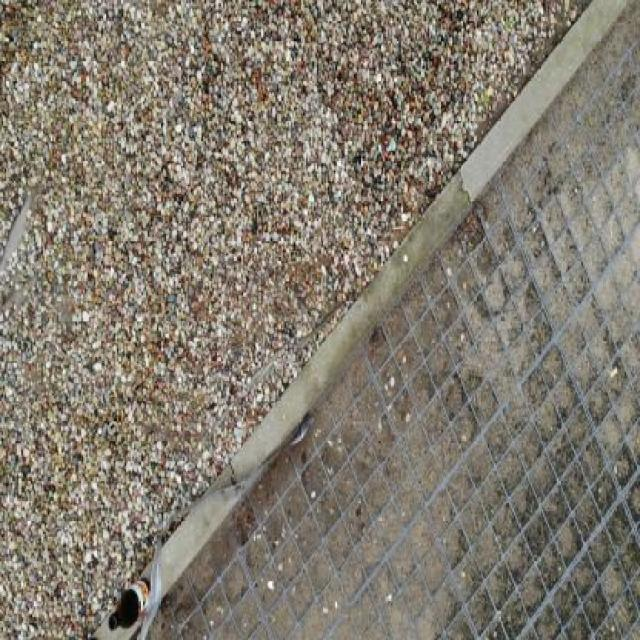Garbage: (109, 578, 150, 631)
